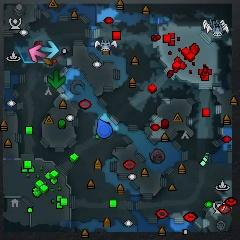p1: (96, 118, 113, 139)
x1: (28, 44, 46, 62)
x3: (40, 41, 59, 58)
x4: (47, 69, 66, 89)
x5: (41, 56, 52, 65)
